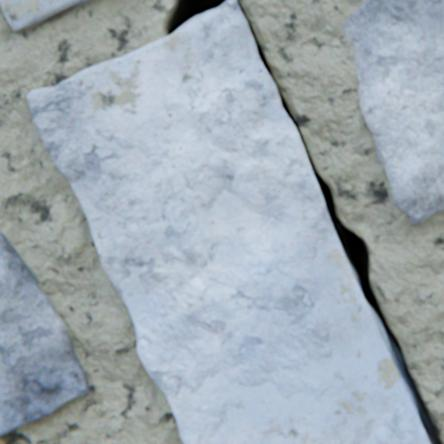brick: (28, 0, 429, 443), (341, 0, 443, 224), (0, 228, 91, 434), (0, 0, 95, 32)
crack: (236, 0, 443, 443), (164, 0, 227, 36)
